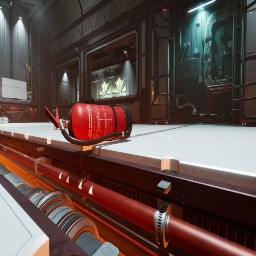0: (0, 117, 10, 124)
FireAlarm ,: (81, 87, 83, 92)
FireExtinguisher ]: (45, 103, 133, 146)
FirstAidBox ,: (86, 98, 95, 104), (109, 104, 116, 106)
SafetySwitchPanel ,: (151, 81, 158, 104)
